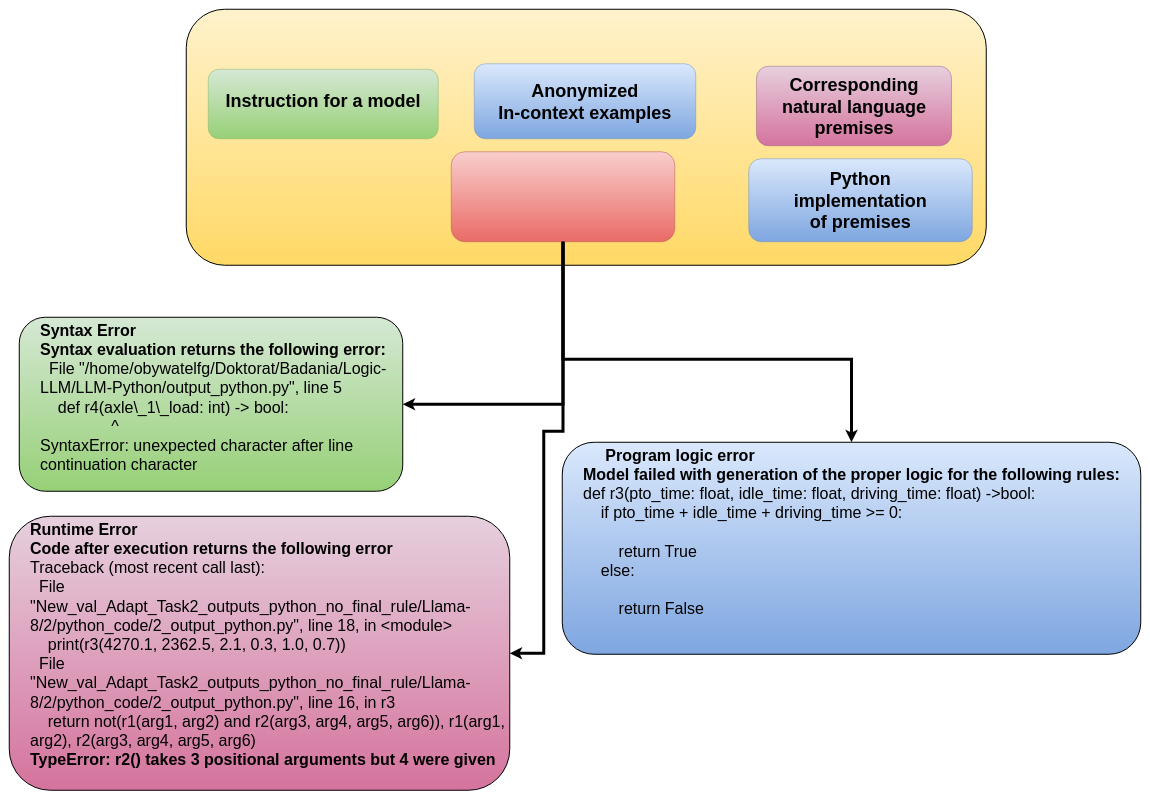
The diagram is 1150 pixels wide and 799 high, and some of its shapes have lost their labels. Each missing label, with the box of its shape:
Feedback on error occured: (451, 151, 675, 242)
Prompt structure: (186, 8, 986, 266)
